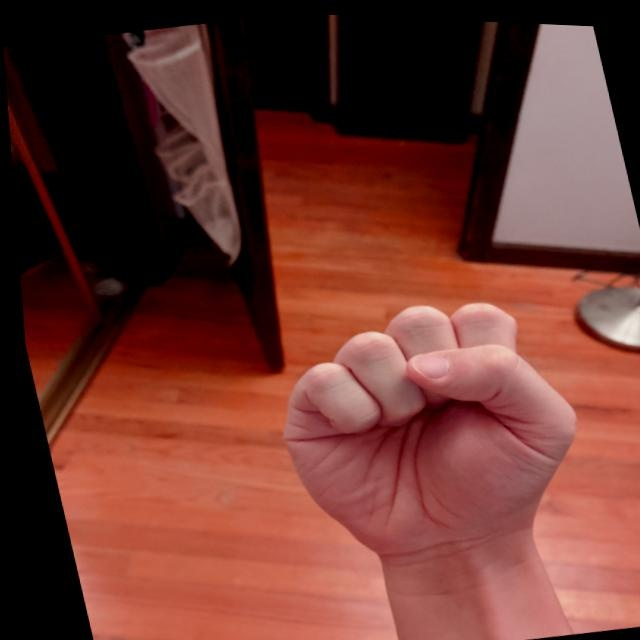S: (239, 268, 609, 583)
